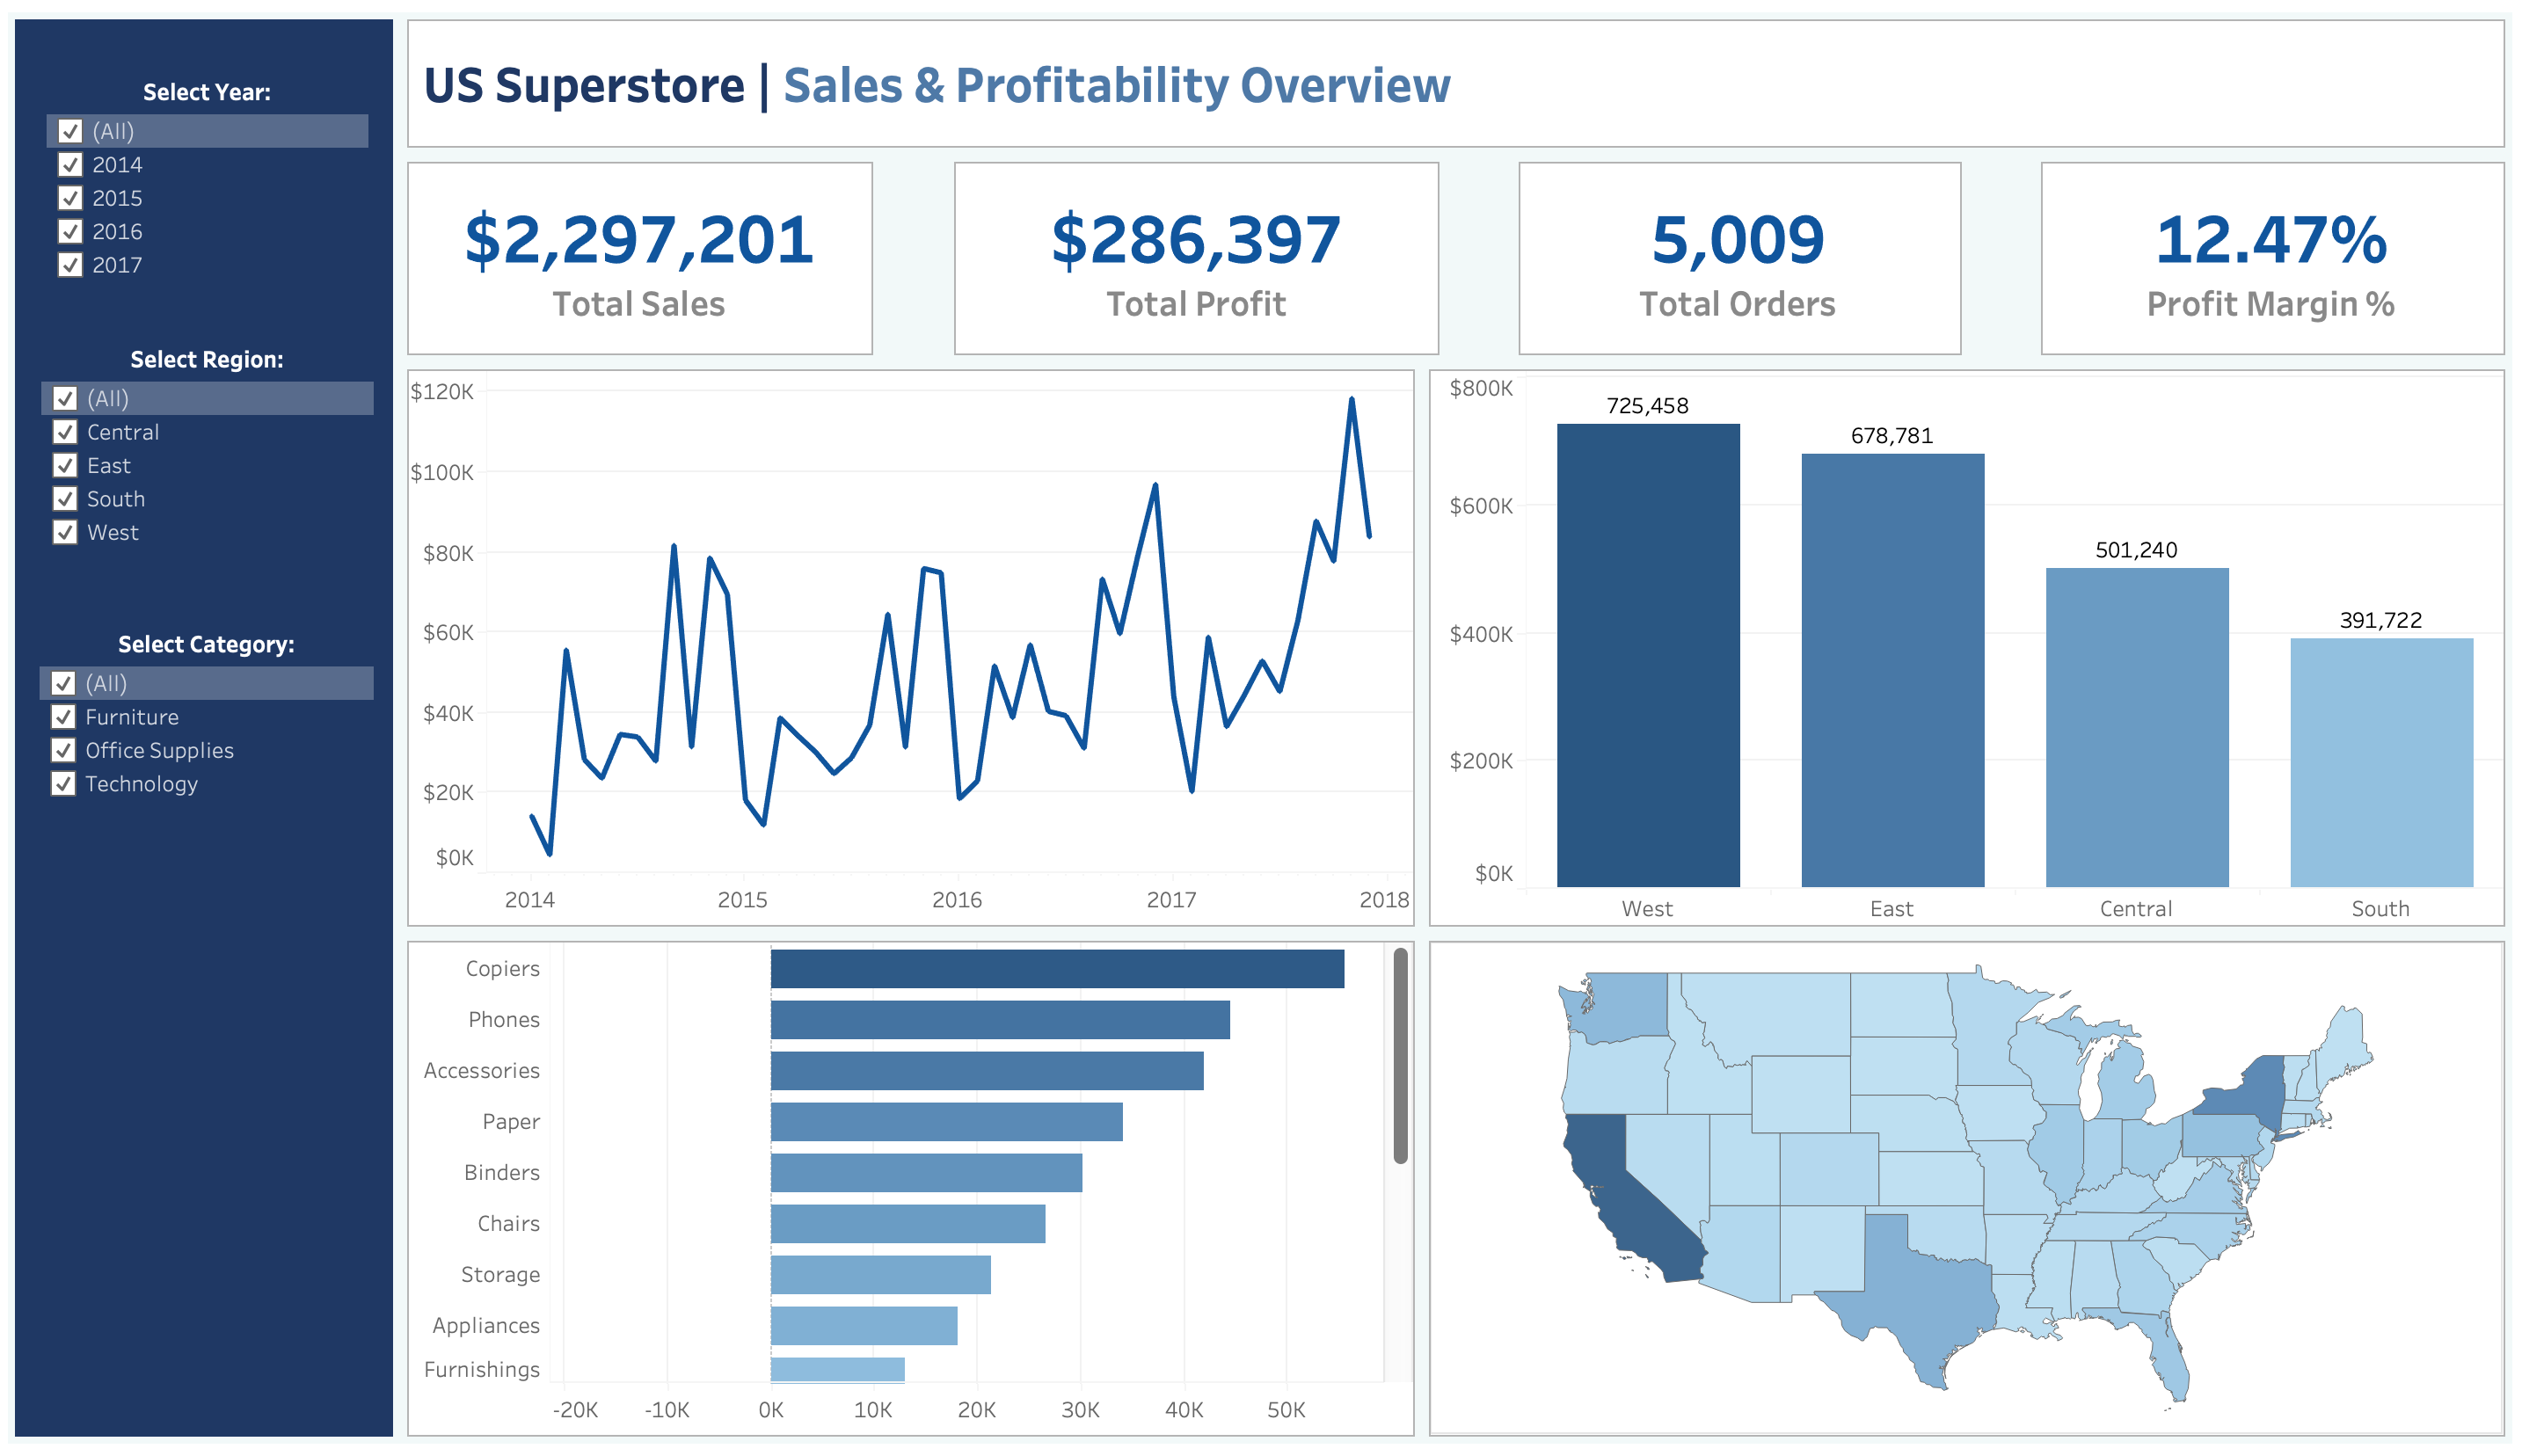

This screenshot's page, from the dashboard's own definition file:
{"tool":"tableau","page":{"name":"Supserstore Sales Dashboard","canvas":[1000,1000],"units":"permille","ordinal":0},"visuals":[{"type":"blank","box":[6.5,10.4,154.6,979.2]},{"type":"text","box":[161.1,10.4,832.4,97.6]},{"type":"filter","title":"Monthly Sales Trend","param":"[federated.1uz43mk1y45i5u13hpy6502di8eb].[yr:order_date:ok]","box":[21.2,53.4,126.9,160.2]},{"type":"worksheet","title":"Total Sales","mark":"Automatic","box":[161.1,108,189.5,141.9]},{"type":"text","box":[350.6,108,26,141.9]},{"type":"worksheet","title":"Total Profit","mark":"Automatic","box":[376.6,108,196.9,141.9]},{"type":"text","box":[573.5,108,25.8,141.9]},{"type":"worksheet","title":"Total Orders","mark":"Automatic","box":[599.3,108,180,141.9]},{"type":"text","box":[779.2,108,26,141.9]},{"type":"worksheet","title":"Profit Margin %","mark":"Automatic","box":[805.2,108,188.2,141.9]},{"type":"filter","title":"Sales by Region","param":"[federated.1uz43mk1y45i5u13hpy6502di8eb].[none:region:nk]","box":[18.7,235.7,131,155]},{"type":"worksheet","title":"Monthly Sales Trend","mark":"Line","rows":["sales"],"cols":["order_date"],"box":[161.1,250,402.8,390.5]},{"type":"worksheet","title":"Sales by Region","mark":"Automatic","rows":["sales"],"cols":["region"],"box":[563.9,250,429.6,390.5]},{"type":"filter","title":"Profit by Sub-Category","param":"[federated.1uz43mk1y45i5u13hpy6502di8eb].[none:category:nk]","box":[17.9,431,131.8,139.3]},{"type":"worksheet","title":"Profit by Sub-Category","mark":"Automatic","rows":["sub_category"],"cols":["profit"],"box":[161.1,640.5,402.8,349.1]},{"type":"worksheet","title":"Sales by State","mark":"Automatic","box":[563.9,640.5,429.6,349.1]}]}

Visuals, with their boxes on the dashboard's canvas, which has no fixed pixel size, in thousandths of its width and height (x1, y1, x2, y2). These are canvas units, not pixel positions in the 2522x1456 screenshot, which may show the page scaled, cropped or inside an application window:
blank: locate(6, 10, 161, 990)
text: locate(161, 10, 994, 108)
"Monthly Sales Trend" filter: locate(21, 53, 148, 214)
"Total Sales" worksheet: locate(161, 108, 351, 250)
text: locate(351, 108, 377, 250)
"Total Profit" worksheet: locate(377, 108, 574, 250)
text: locate(574, 108, 599, 250)
"Total Orders" worksheet: locate(599, 108, 779, 250)
text: locate(779, 108, 805, 250)
"Profit Margin %" worksheet: locate(805, 108, 993, 250)
"Sales by Region" filter: locate(19, 236, 150, 391)
"Monthly Sales Trend" worksheet (Line marks): locate(161, 250, 564, 640)
"Sales by Region" worksheet: locate(564, 250, 994, 640)
"Profit by Sub-Category" filter: locate(18, 431, 150, 570)
"Profit by Sub-Category" worksheet: locate(161, 640, 564, 990)
"Sales by State" worksheet: locate(564, 640, 994, 990)
